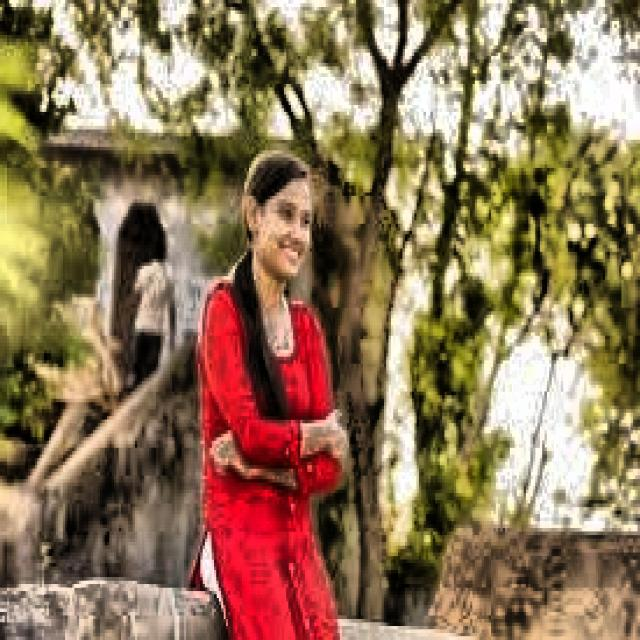Human: (179, 144, 350, 640)
